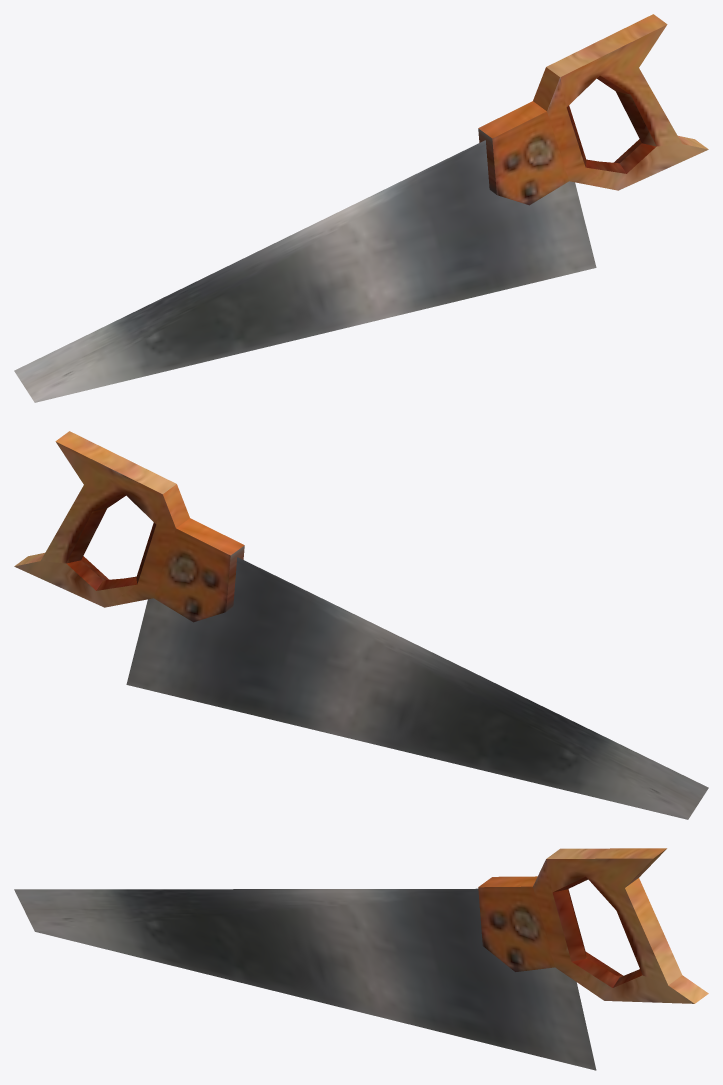
3 views of the same model, one above another, from view 1: azimuth 30°, elevation 25°; view 2: azimuth 150°, elevation 25°; view 3: azimuth 330°, elevation 25° (orthographic).
Visible parts, largest first — view 1: BackSaw; view 2: BackSaw; view 3: BackSaw.
Part boxes in pixels (left/top/right/bottom): BackSaw: left=14, top=14, right=708, bottom=402; BackSaw: left=14, top=431, right=708, bottom=819; BackSaw: left=14, top=848, right=708, bottom=1070.
Size of the model in its own units: 3.2 by 1.04 by 0.1138.
Materials: 1 (1 with a texture image).
